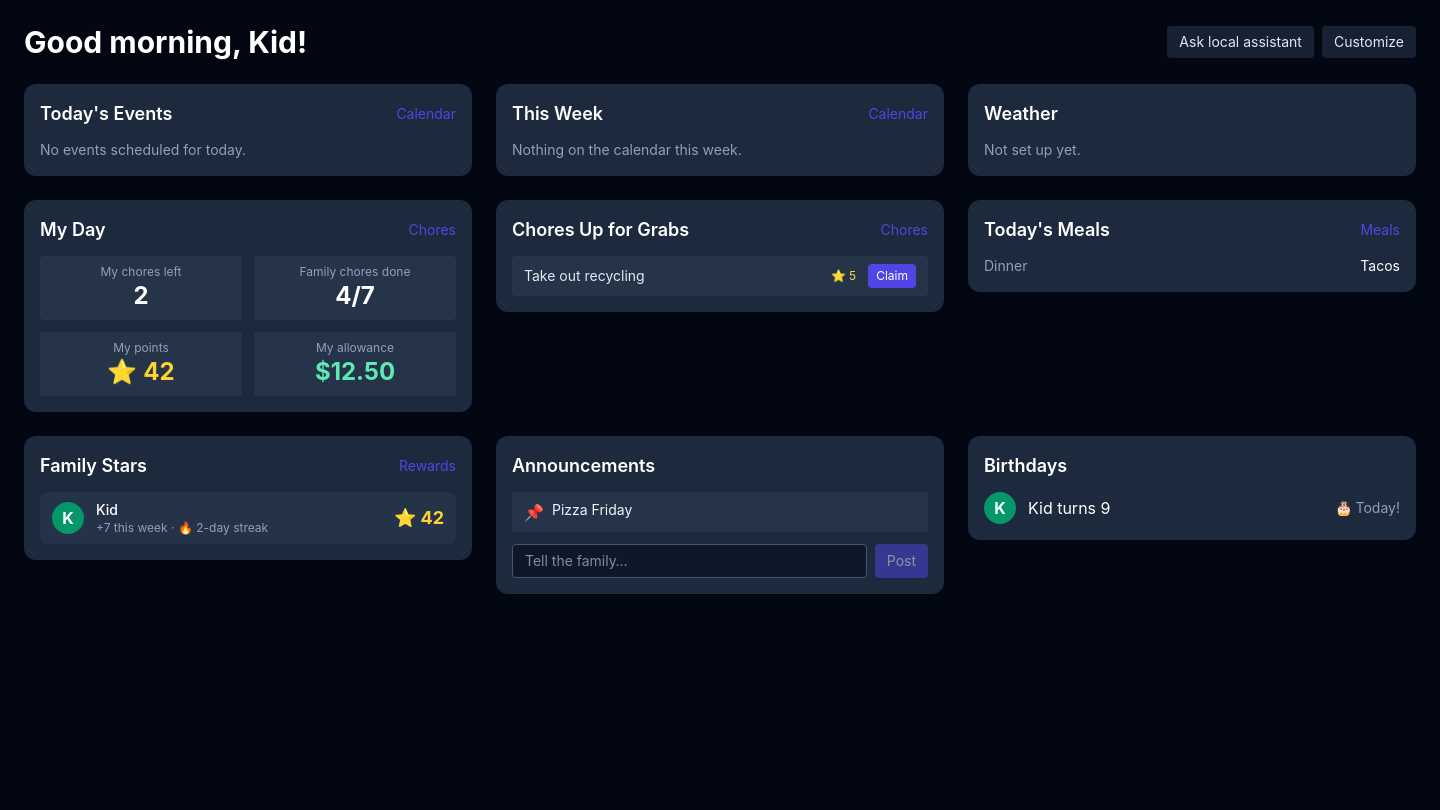
Test: Dashboard › explains a claim that didn't work
Click the button with aria-label "Claim: Take out recycling": (892, 276) [868, 264, 916, 288]
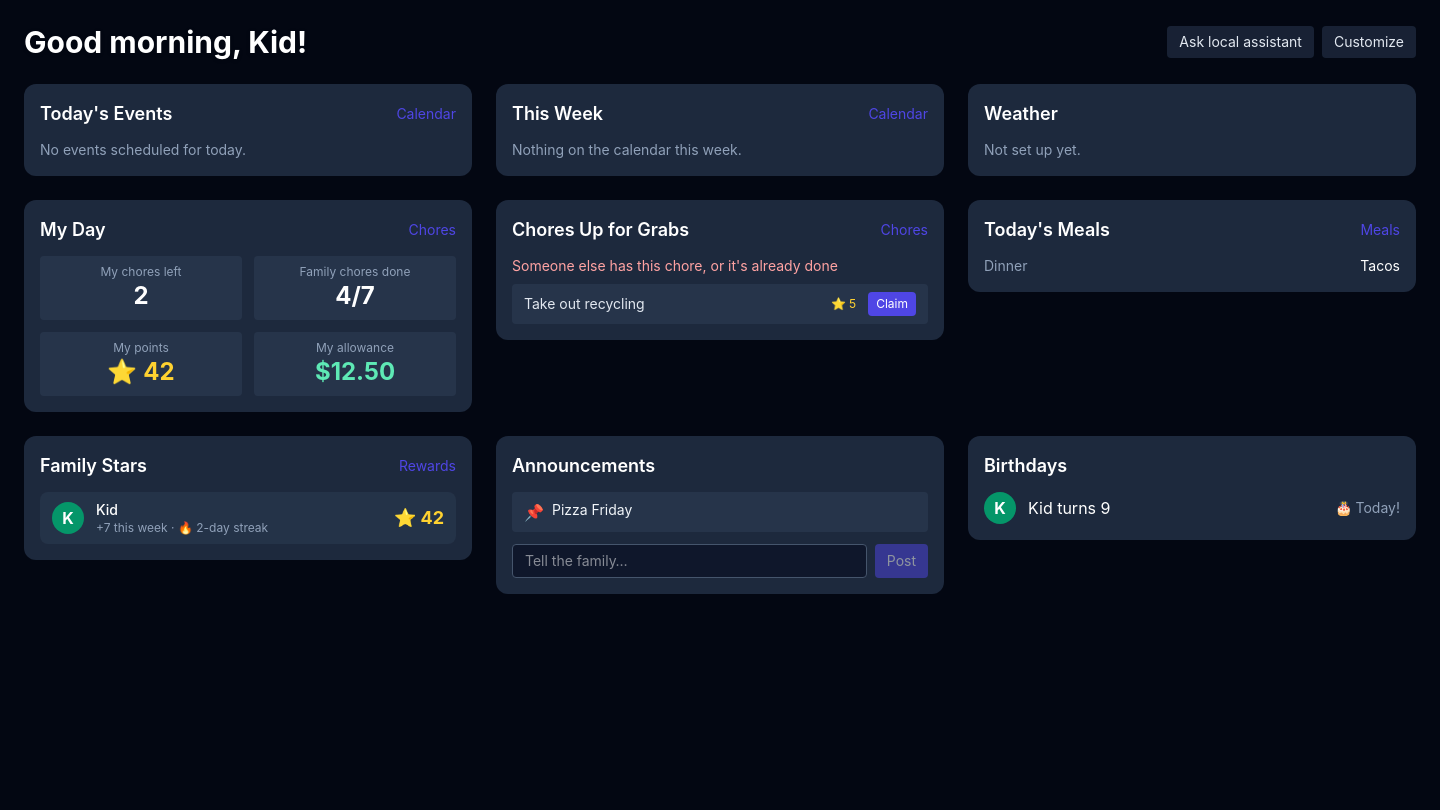
expect the message shows "Someone else has this chore": met, box [512, 257, 838, 274]
